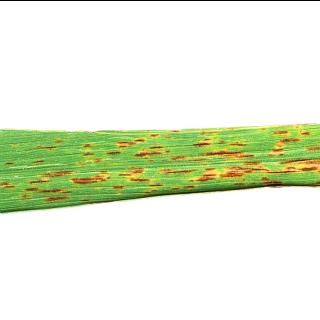Bercak-Cokelat-Sempit: (219, 158, 320, 179), (269, 137, 301, 155), (202, 149, 256, 158), (69, 174, 111, 185), (158, 165, 196, 174), (42, 193, 71, 204), (116, 136, 144, 147), (37, 169, 74, 177), (133, 148, 164, 157), (261, 175, 286, 186), (36, 187, 73, 193), (191, 136, 213, 146), (0, 179, 17, 190), (34, 144, 59, 150), (302, 143, 320, 151), (105, 148, 123, 155), (227, 141, 248, 147), (29, 178, 53, 183), (129, 176, 151, 181), (147, 143, 165, 149), (170, 153, 185, 160), (270, 129, 290, 134), (30, 158, 46, 163), (300, 129, 312, 135), (148, 182, 165, 186)
